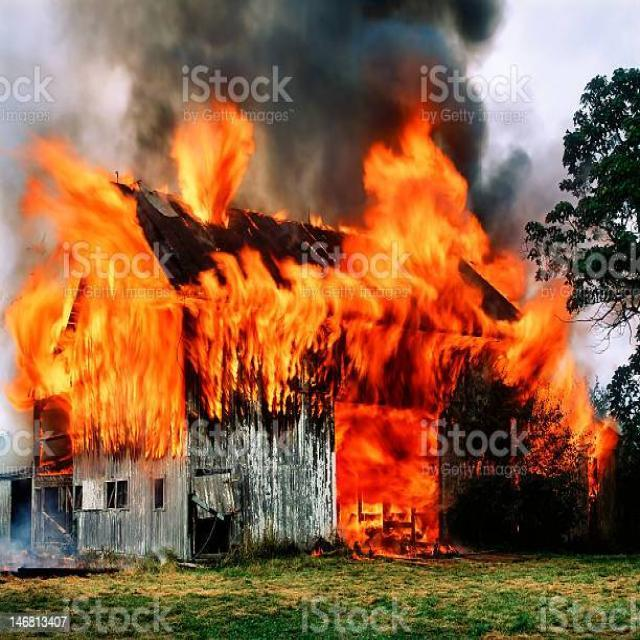Fire: (26, 140, 180, 458), (373, 150, 485, 395), (198, 247, 366, 408), (514, 281, 615, 509), (336, 412, 444, 556), (186, 112, 254, 236)
Smoke: (0, 0, 509, 94), (264, 109, 357, 215)
